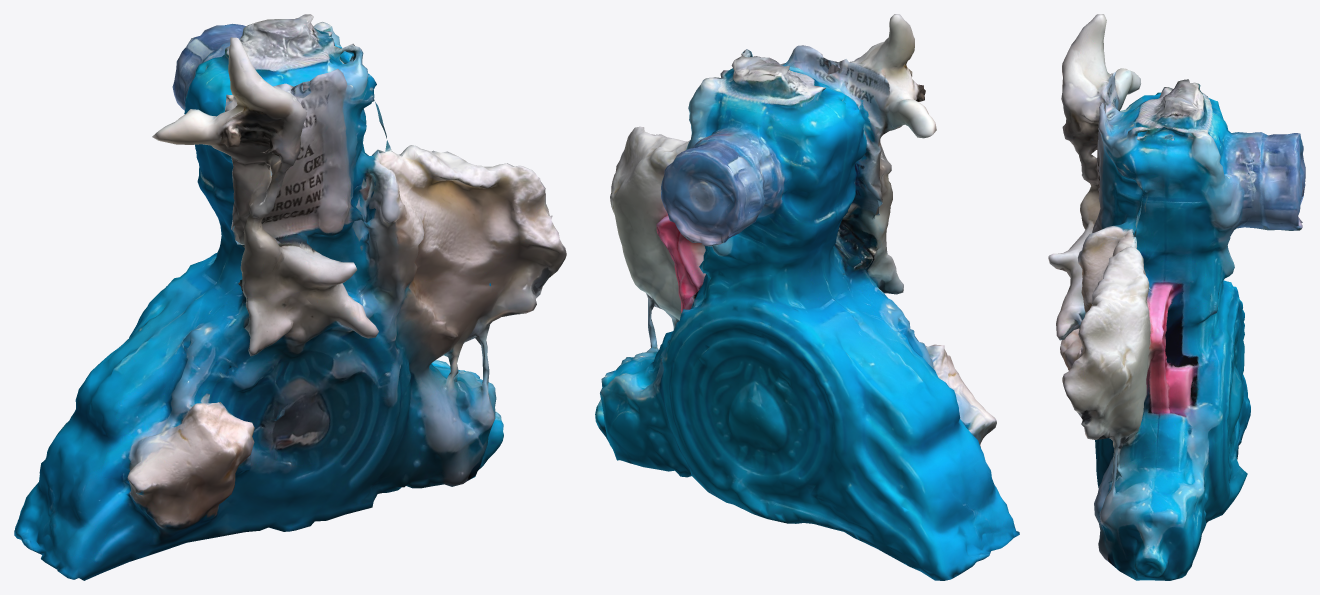
The picture shows the model from 3 angles, left to right: view 1: azimuth 30°, elevation 25°; view 2: azimuth 150°, elevation 25°; view 3: azimuth 270°, elevation 25°; orthographic projection. The views are drawn at different scales.
Parts seen in each view (by area): view 1: P14; view 2: P14; view 3: P14.
Boxes of the visible parts, x1=… form: P14: x1=14, y1=14, x2=566, y2=580; P14: x1=595, y1=14, x2=1019, y2=580; P14: x1=1048, y1=14, x2=1305, y2=580.
Size of the model in its own units: 0.5445 by 0.5788 by 0.2928.
Materials: 1 (1 with a texture image).
